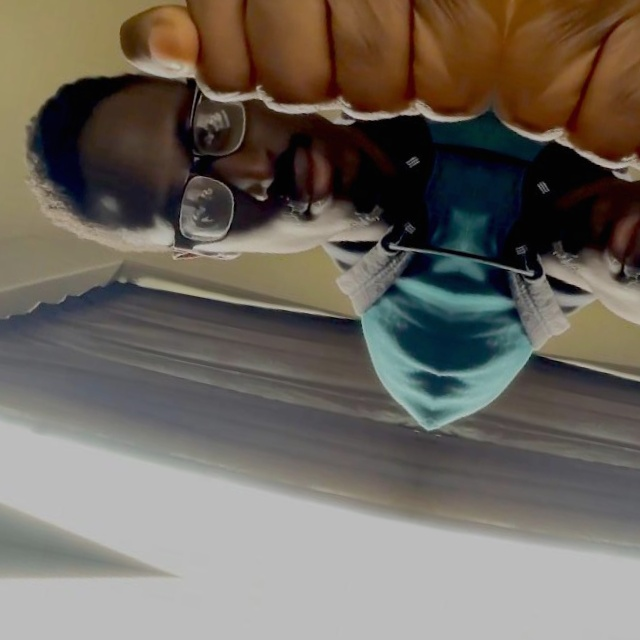Rock: (109, 0, 528, 153)
